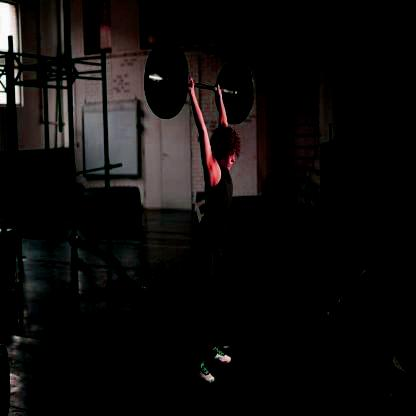Barbell: (141, 67, 170, 91)
